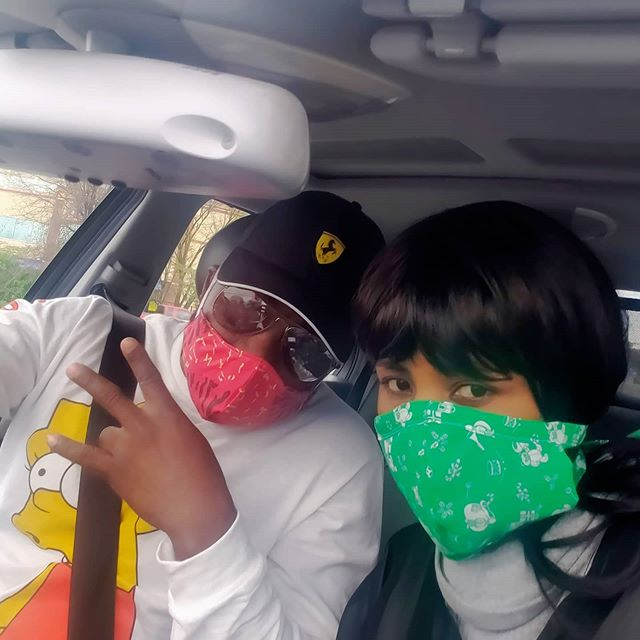homemade: (360, 397, 612, 550), (179, 303, 315, 437)
